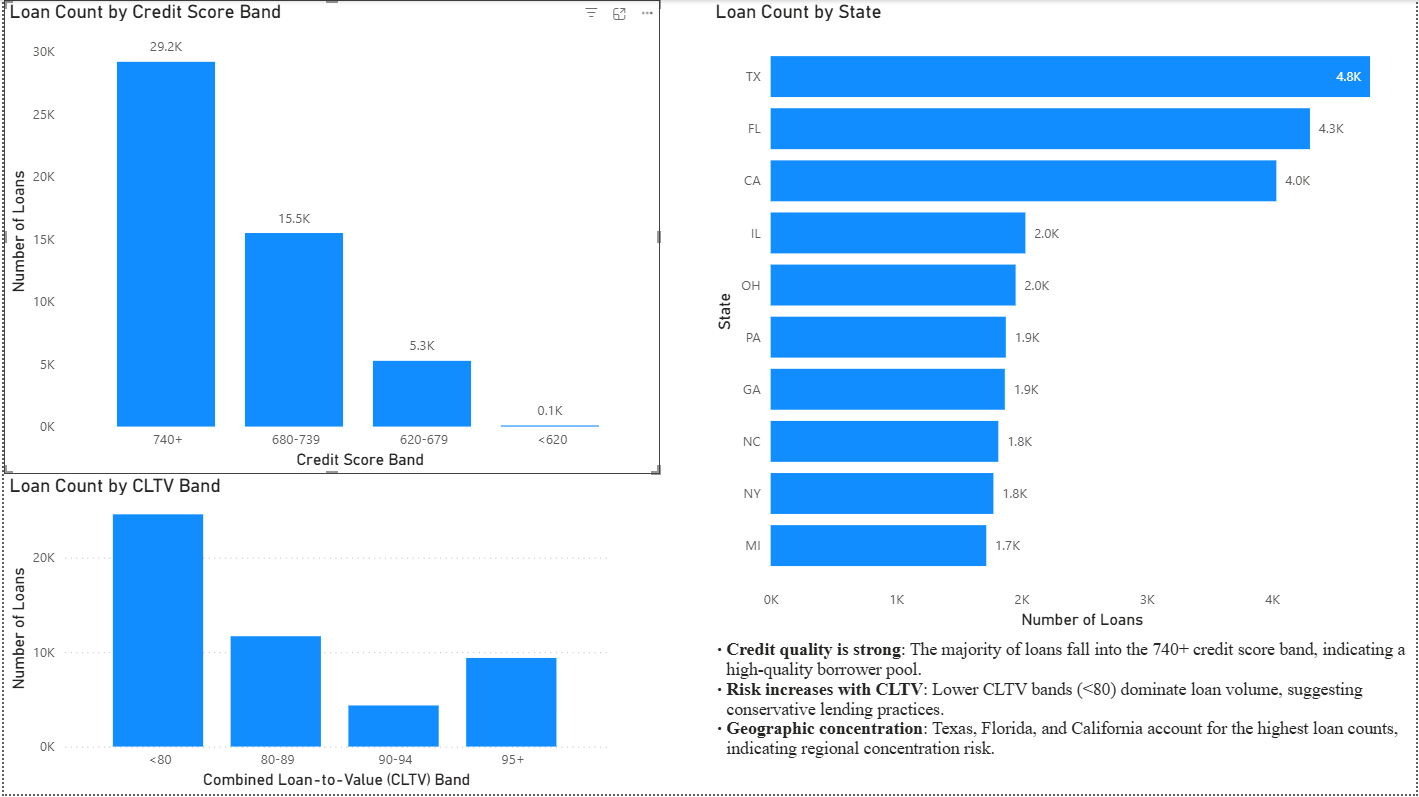

What the dashboard file says about the page in this screenshot:
{"tool":"powerbi","page":{"name":"Page 1","canvas":[1280,720],"ordinal":0},"visuals":[{"type":"clusteredColumnChart","title":"Loan Count by Credit Score Band","fields":{"Category":["loans_by_credit_band.credit_band"],"Y":["Sum(loans_by_credit_band.loan_count)"]},"box":[0,0,594.9,429.8],"z":0},{"type":"clusteredColumnChart","title":"Loan Count by CLTV Band","fields":{"Category":["loans_by_cltv_band.cltv_band"],"Y":["Sum(loans_by_cltv_band.loan_count)"]},"box":[0,429.8,552.2,290.2],"z":1},{"type":"clusteredBarChart","title":"Loan Count by State","fields":{"Category":["loans_by_state.state"],"Y":["Sum(loans_by_state.loan_count)"]},"box":[640.2,0,632,574.9],"z":2},{"type":"textbox","box":[632,574.9,648.4,145.1],"z":3}]}

Visuals, with their boxes in screenshot pixels (x1, y1, x2, y2), scaled from the page's 1280x720 canvas onto the 1419x797 screenshot:
"Loan Count by Credit Score Band" clusteredColumnChart: x1=0 y1=0 x2=660 y2=476
"Loan Count by CLTV Band" clusteredColumnChart: x1=0 y1=476 x2=612 y2=796
"Loan Count by State" clusteredBarChart: x1=710 y1=0 x2=1410 y2=636
textbox: x1=701 y1=636 x2=1418 y2=796
